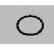no answer: (11, 11, 47, 38)
